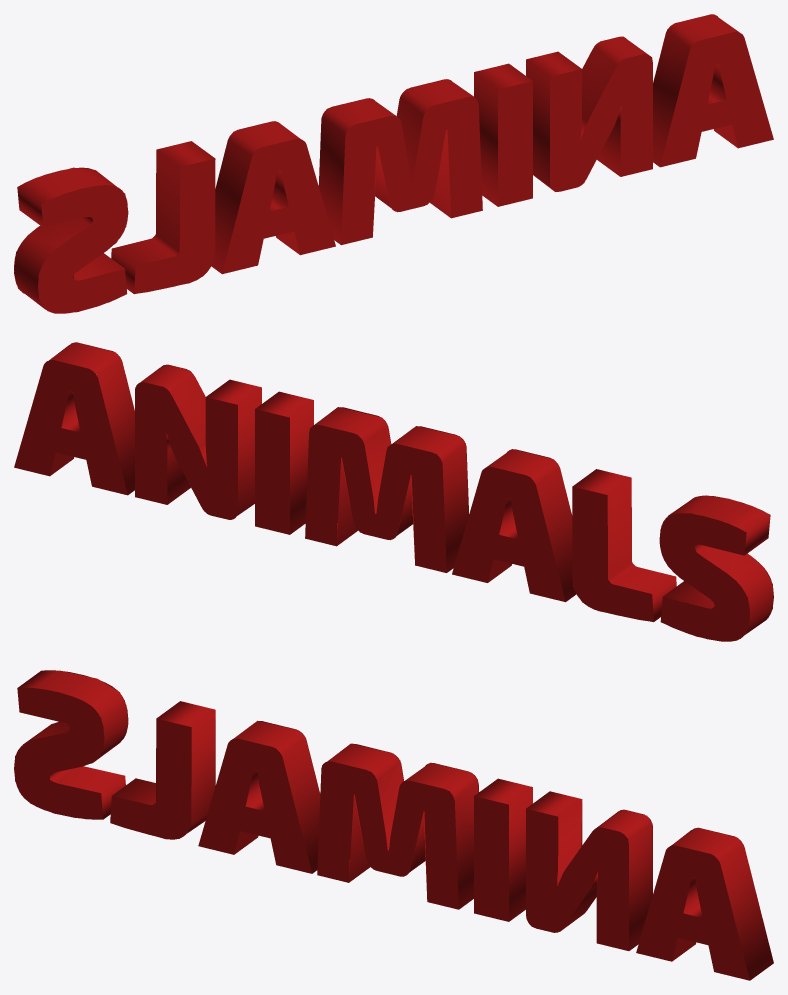
The model's file is animals.fbx.
The picture shows the model from 3 angles, top to bottom: view 1: azimuth 30°, elevation 25°; view 2: azimuth 150°, elevation 25°; view 3: azimuth 330°, elevation 25°; orthographic projection.
Parts seen in each view (by area): view 1: Text; view 2: Text; view 3: Text.
Boxes of the visible parts, x1=… form: Text: x1=14, y1=14, x2=773, y2=313; Text: x1=14, y1=342, x2=773, y2=641; Text: x1=14, y1=670, x2=773, y2=980.
Bounding box in the file's own units: 14.19 × 2.26 × 0.8.
